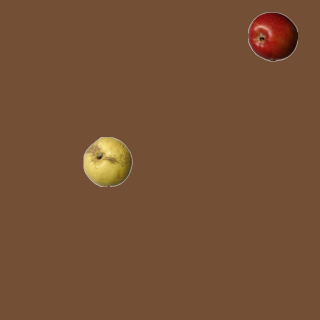Apple Braeburn: (247, 11, 297, 61)
Apple Golden 1: (82, 136, 132, 186)
